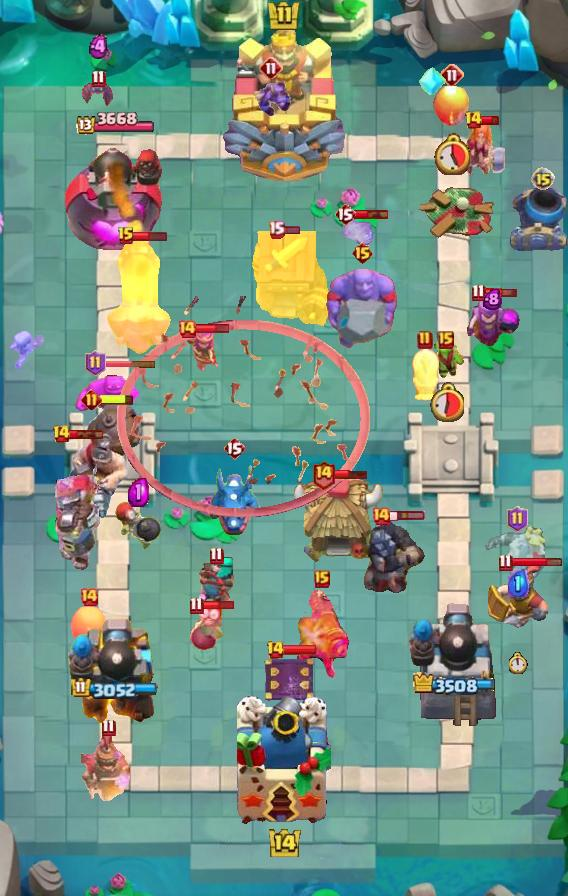archer: (186, 327, 220, 373)
bar: (510, 557, 563, 568), (103, 359, 157, 368), (99, 393, 135, 406), (483, 286, 518, 299), (389, 510, 426, 522), (282, 644, 318, 656), (354, 208, 390, 220), (201, 599, 236, 611), (133, 230, 168, 242), (333, 469, 369, 480), (69, 429, 104, 440), (195, 323, 230, 334), (481, 115, 500, 126), (282, 225, 301, 235)
bar-level: (311, 459, 336, 490), (531, 167, 555, 191), (440, 63, 464, 87), (259, 56, 283, 80), (351, 241, 374, 265), (507, 506, 528, 532), (85, 350, 106, 376), (223, 436, 245, 460), (334, 202, 356, 226), (81, 389, 102, 410), (79, 587, 99, 607), (371, 506, 391, 526), (177, 319, 197, 339), (266, 640, 285, 660), (52, 424, 71, 444), (464, 110, 483, 130), (117, 226, 135, 246), (268, 220, 285, 239), (417, 330, 433, 350), (314, 570, 330, 588), (438, 331, 454, 349), (101, 718, 116, 737), (189, 596, 204, 615), (498, 553, 513, 572), (209, 546, 224, 565), (471, 283, 486, 302), (91, 69, 106, 88)
bat: (82, 79, 114, 109)
bomber: (114, 502, 162, 552), (188, 601, 224, 653)
cannoneer-tower: (64, 138, 165, 256), (408, 599, 498, 731), (67, 611, 161, 731)
clock: (434, 133, 470, 175), (429, 382, 464, 422), (509, 652, 528, 674)
electro-dragon: (206, 463, 262, 537)
elixir: (128, 478, 149, 507), (508, 569, 529, 597), (89, 34, 108, 60), (483, 288, 502, 310)
elixir-golem-mid: (74, 367, 144, 425)
firecracker-evolution: (294, 589, 350, 681)
goblin: (425, 340, 467, 378)
ice-spirit-evolution-symbol: (418, 64, 446, 98)
king-tower: (220, 21, 348, 181), (237, 696, 331, 826)
lava-pup: (340, 216, 376, 248)
minion: (249, 79, 293, 117)
mortar: (508, 187, 568, 251)
mother-witch: (463, 295, 521, 351)
phoenix-egg: (69, 605, 109, 649), (432, 84, 472, 128)
rascal-girl: (196, 555, 236, 607)
royal-ghost: (485, 521, 549, 593)
royal-hog: (409, 340, 441, 404)
royal-recruit: (488, 559, 548, 629), (81, 731, 136, 805)
skeleton: (8, 329, 44, 369)
tower-bar: (411, 672, 495, 696), (74, 112, 154, 137), (71, 677, 158, 699)
valkyrie: (461, 116, 509, 178)
